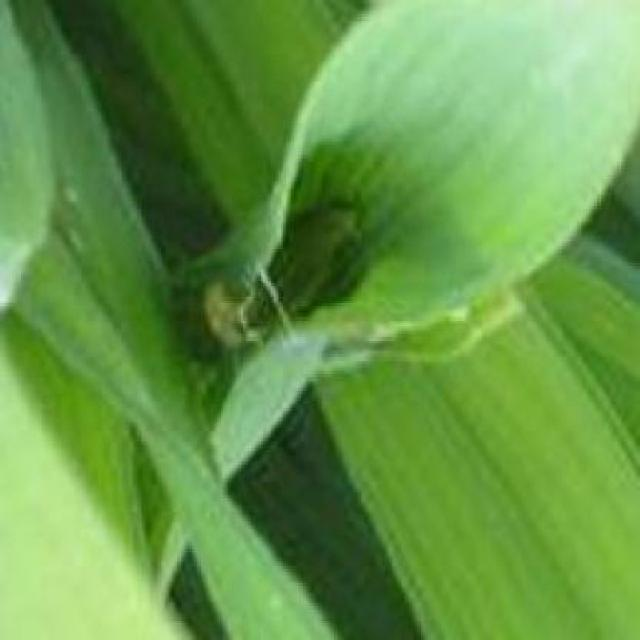leaf-folder: (172, 169, 370, 366)
